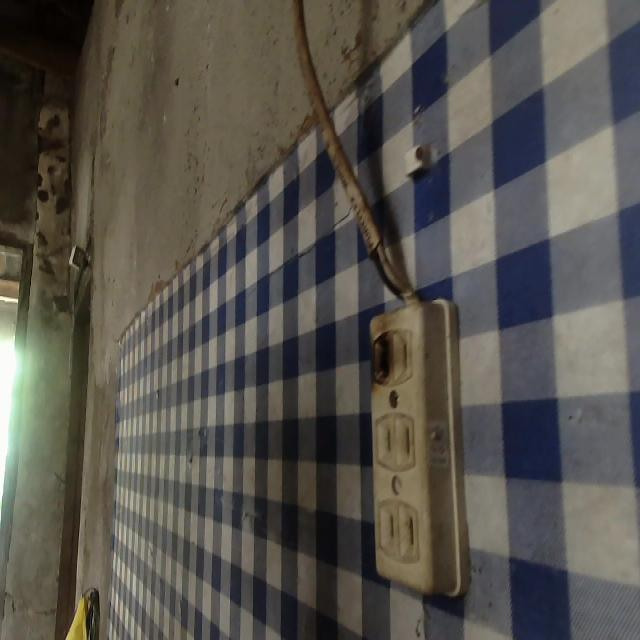-: (369, 332, 396, 389)
